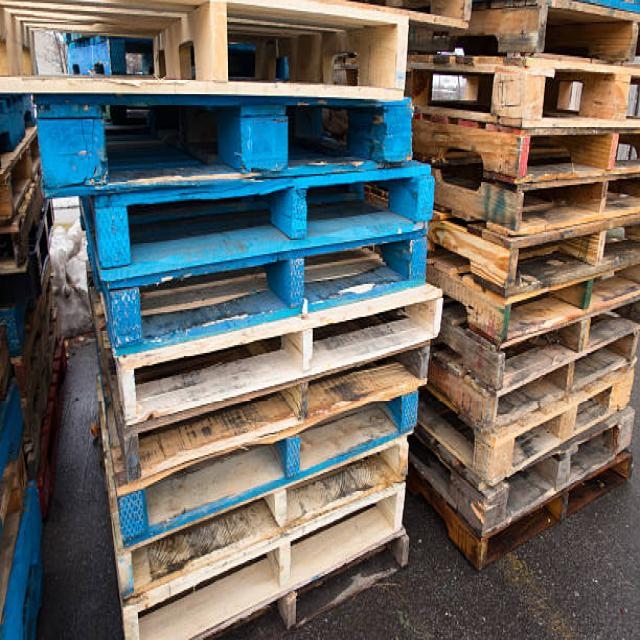Wooden-Pallets: (106, 374, 429, 563), (105, 284, 450, 422), (121, 478, 414, 640), (0, 0, 416, 107), (98, 163, 437, 294), (484, 357, 640, 491), (493, 288, 640, 392)
